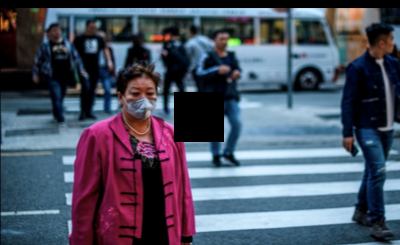with_mask: (125, 84, 157, 121)
without_mask: (385, 33, 396, 54), (217, 35, 229, 49), (87, 23, 97, 35), (51, 28, 61, 39)
